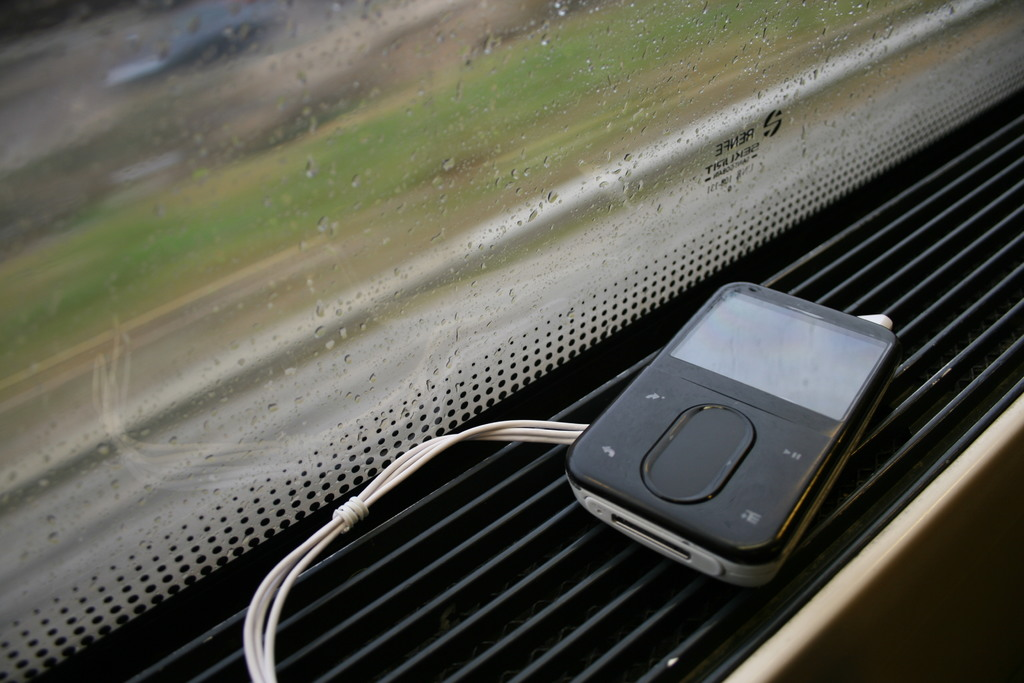mobile phone: (480, 278, 881, 594)
